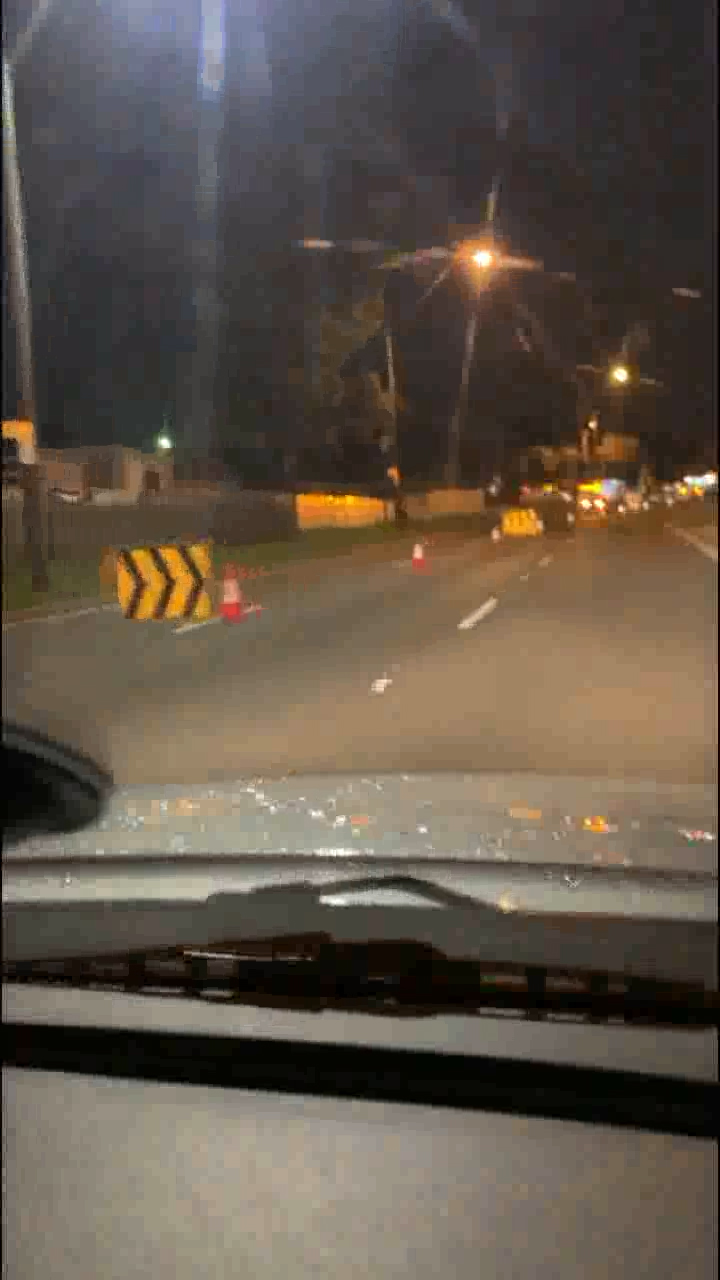road cone: (222, 571, 245, 623), (410, 538, 427, 567)
road works sign board: (106, 550, 214, 629), (506, 509, 543, 532)
